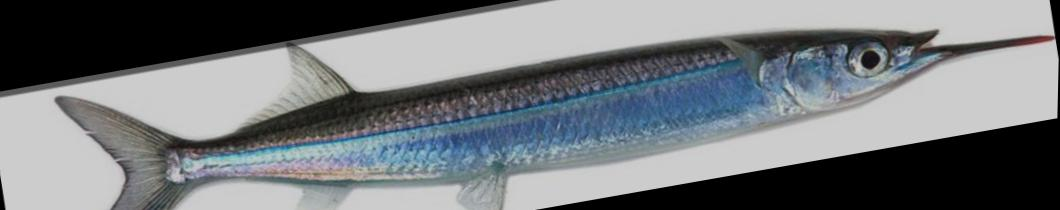fish: (52, 28, 1054, 210)
